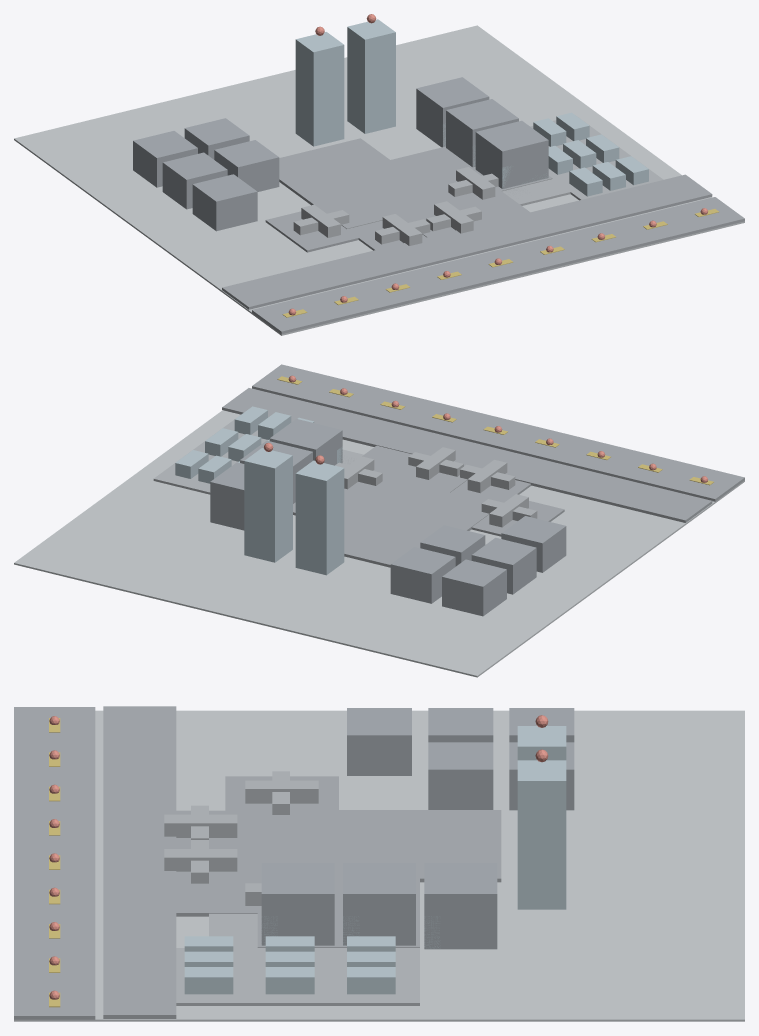
Rendered from stage_24.glb.
3 views of the same model, one above another, from view 1: azimuth 30°, elevation 25°; view 2: azimuth 150°, elevation 25°; view 3: azimuth 270°, elevation 25° (orthographic). The views are drawn at different scales.
Parts seen in each view (by area): view 1: geometry_0; view 2: geometry_0; view 3: geometry_0.
Boxes of the visible parts, <box> form: geometry_0: <box>14,14,744,335</box>; geometry_0: <box>14,364,744,677</box>; geometry_0: <box>14,706,744,1021</box>.
Size of the model in its own units: 9 by 2.06 by 9.
